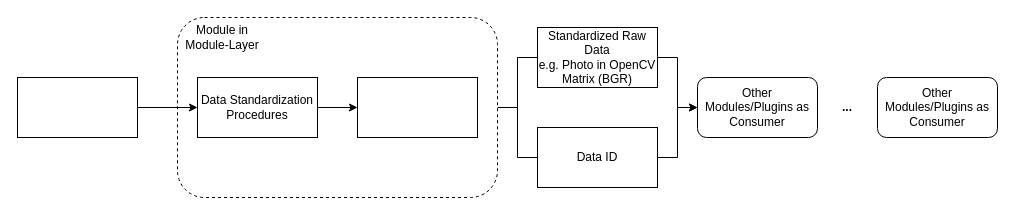
Some shapes in this 1015 by 215 pixel diagram are drawn without their labels. Here are the shapes that lost their labels. From the top down, the centre of each, then its label:
point 77,107: Encoded Data e.g. PNG, JPG
point 417,107: Other Data-Processing Procedures...
